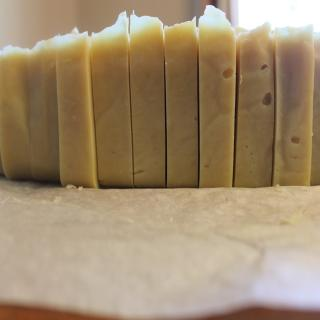Cheese: (0, 3, 320, 185)
